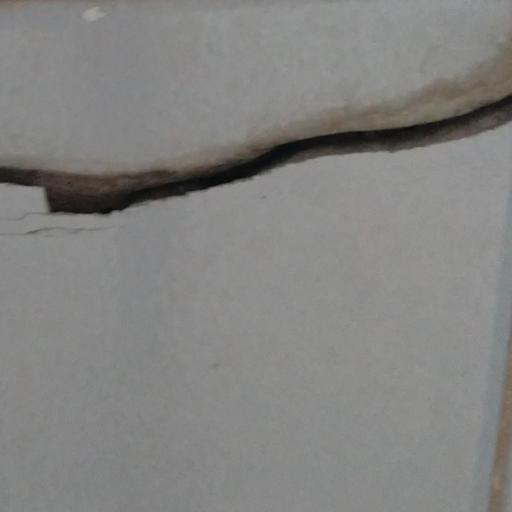major_crack: (0, 69, 512, 229)
